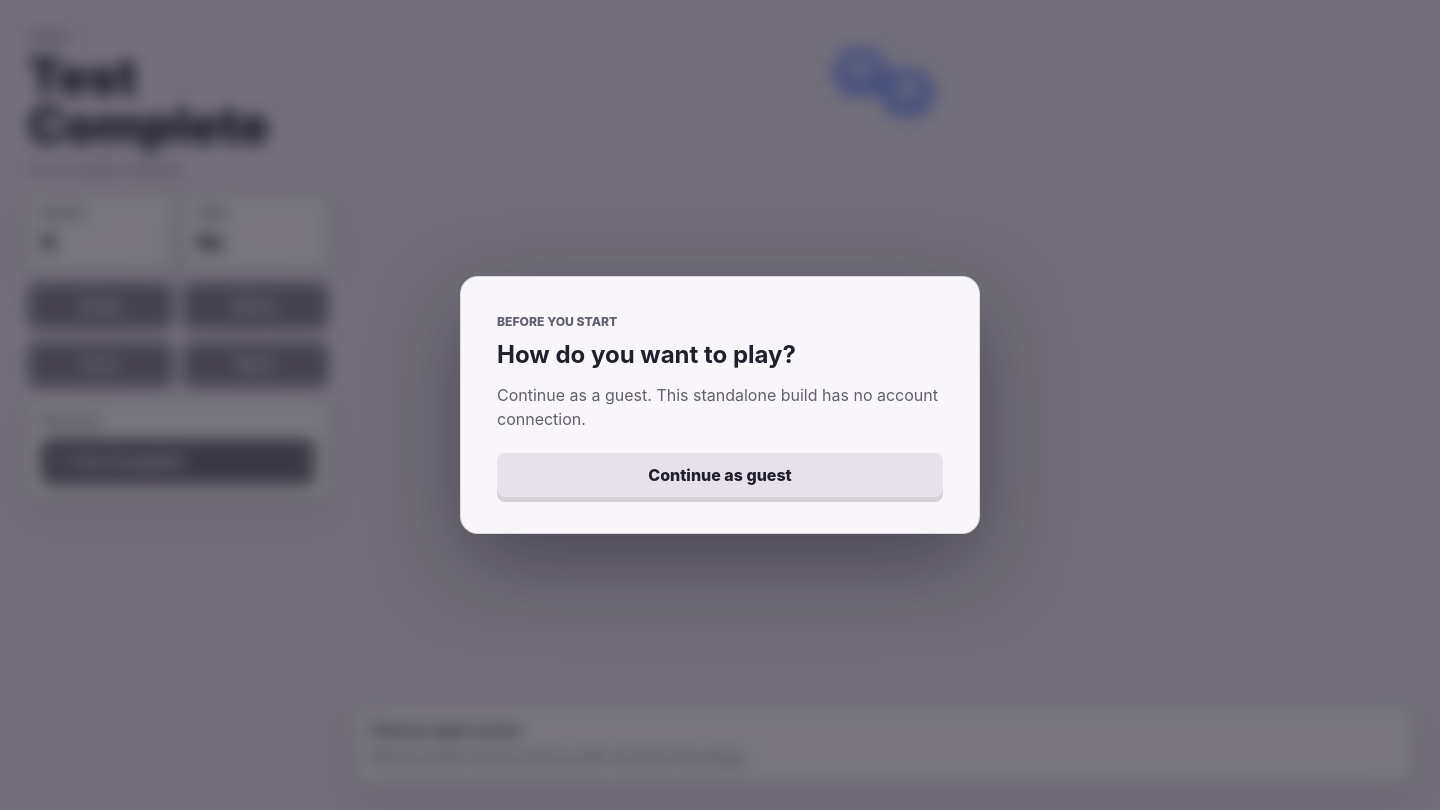
Test case: GameScreen › keeps_the_board_locked_after_ranked_start_failure_until_practice_is_chosen
Click the button "Continue as guest" at (720,475), box [497, 453, 943, 497]
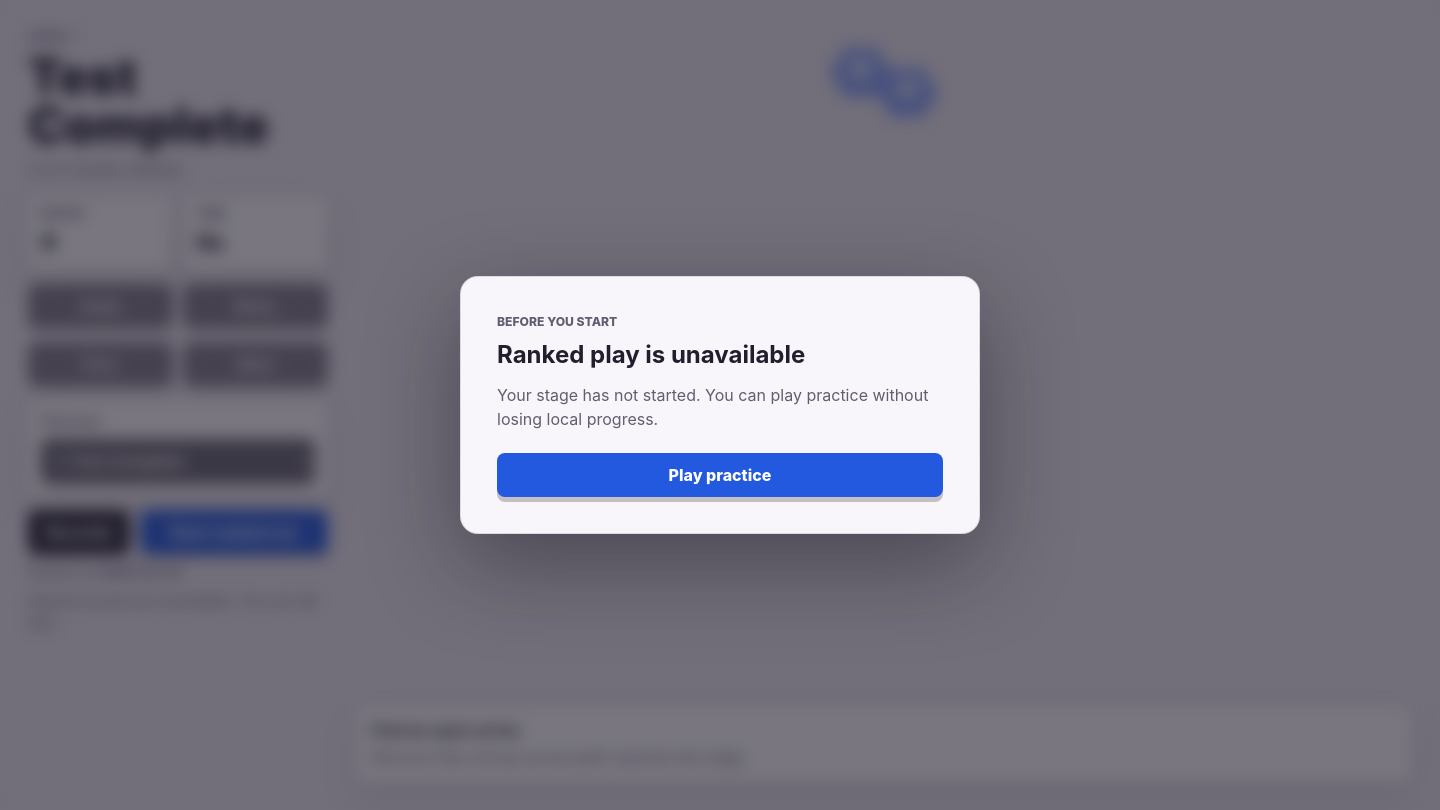
Expected: the button named "Tile test-a arrow up" is disabled, [830, 46, 891, 98]
Expected: the heading "Ranked play is unavailable" is shown, [497, 340, 805, 369]
Click the button "Play practice" at (720,475), box [497, 453, 943, 497]
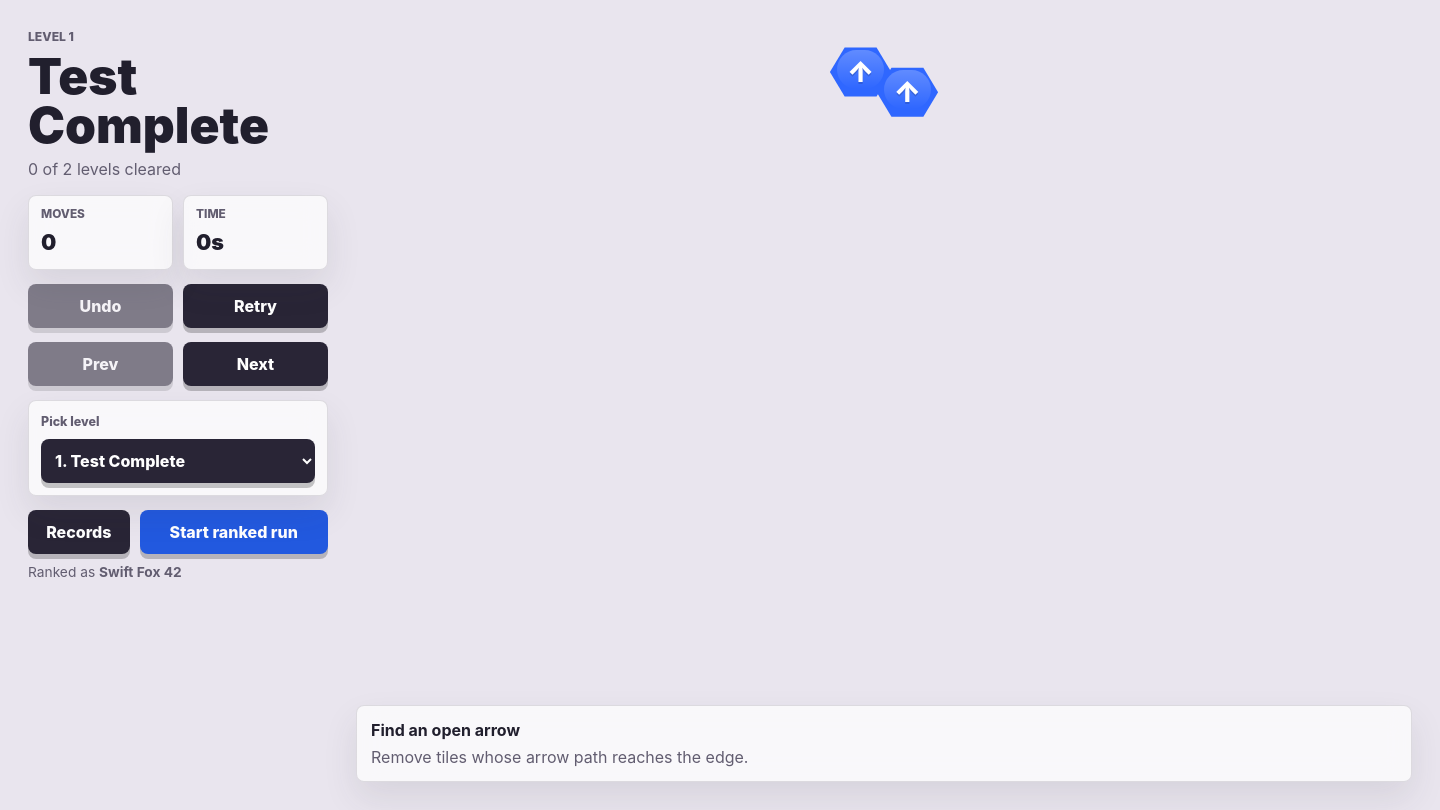
Expected: the button named "Tile test-a arrow up" is enabled, [830, 46, 891, 98]
